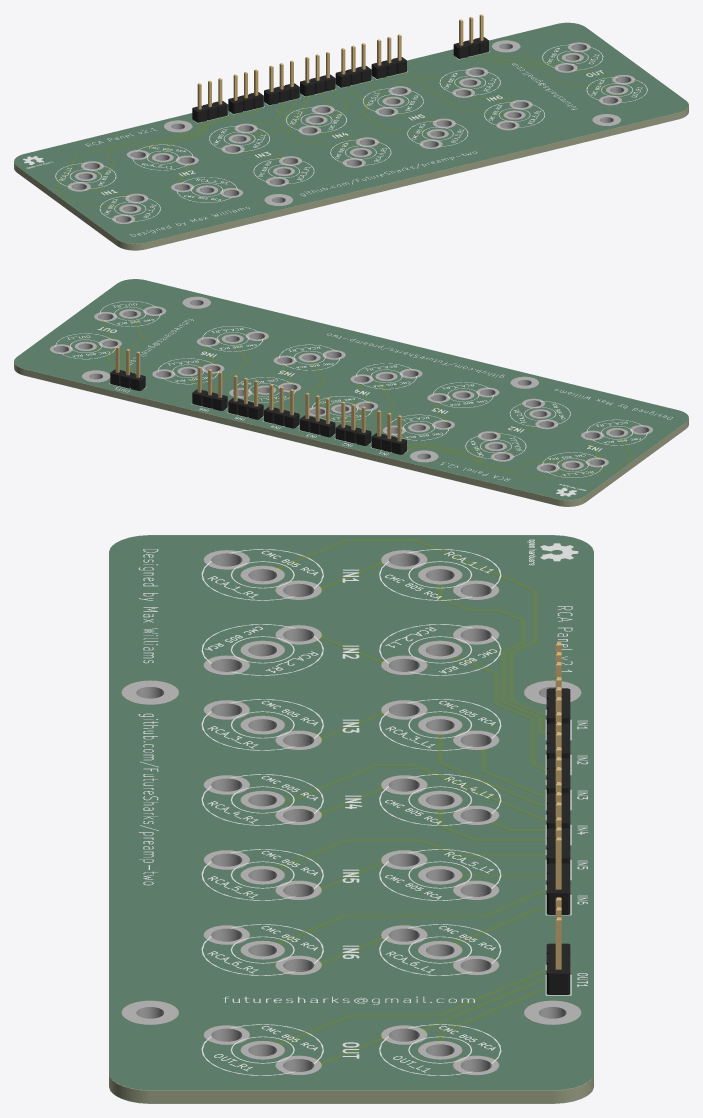
File: board.glb
The picture shows the model from 3 angles, top to bottom: view 1: azimuth 30°, elevation 25°; view 2: azimuth 150°, elevation 25°; view 3: azimuth 270°, elevation 25°; orthographic projection. The views are drawn at different scales.
Parts seen in each view (by area): view 1: board_soldermask (×2), board_PCB, board_pad, PinHeader_1x03_P254mm_Vertical (×7), board_silkscreen, board_copper; view 2: board_soldermask (×2), board_PCB, board_pad, PinHeader_1x03_P254mm_Vertical (×7), board_silkscreen, board_copper; view 3: board_soldermask, board_PCB, board_pad, board_silkscreen, board_copper, PinHeader_1x03_P254mm_Vertical (×7).
Boxes of the visible parts, x1,y1,x2,y2 form: board_soldermask (×2): (14,22,688,250); board_PCB: (14,23,688,250); board_pad: (68,40,634,224); PinHeader_1x03_P254mm_Vertical (×7): (192,14,488,122); board_silkscreen: (23,44,647,236); board_copper: (55,53,616,207); board_soldermask (×2): (14,279,688,506); board_PCB: (14,280,688,506); board_pad: (50,296,652,472); PinHeader_1x03_P254mm_Vertical (×7): (110,346,406,454); board_silkscreen: (55,301,672,496); board_copper: (95,318,632,478); board_soldermask: (109,535,593,1090); board_PCB: (109,536,593,1103); board_pad: (122,550,580,1075); board_silkscreen: (138,539,588,1075); board_copper: (276,539,545,1065); PinHeader_1x03_P254mm_Vertical (×7): (546,642,570,994).
Size of the model in its own units: 0.141 by 0.0115 by 0.0521.
